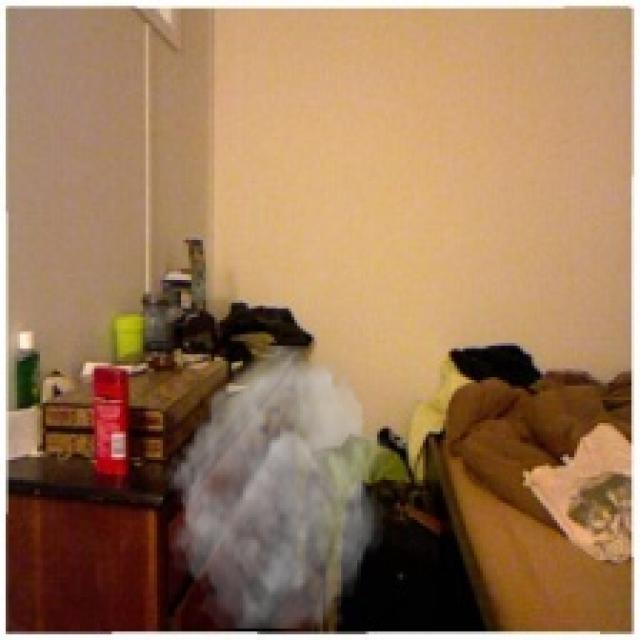smoke: (163, 346, 391, 628)
